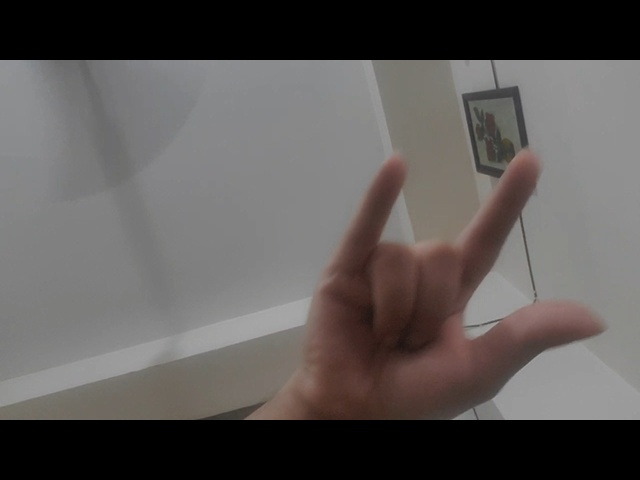I love you: (238, 128, 619, 416)
